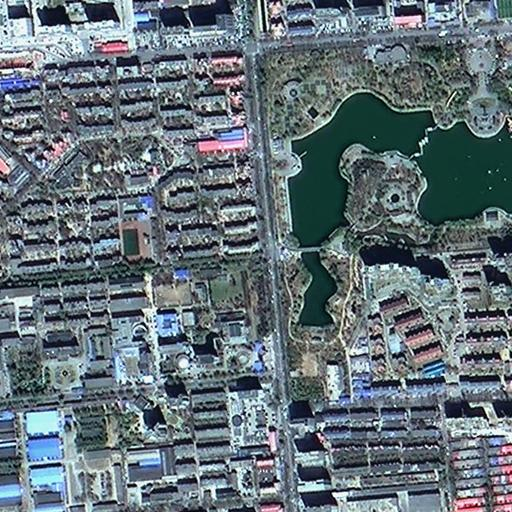school: (119, 201, 154, 262)
